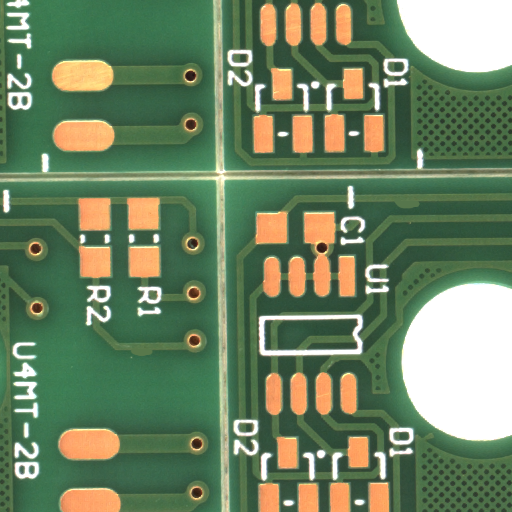Spur: (406, 204, 437, 216), (141, 351, 168, 361)
